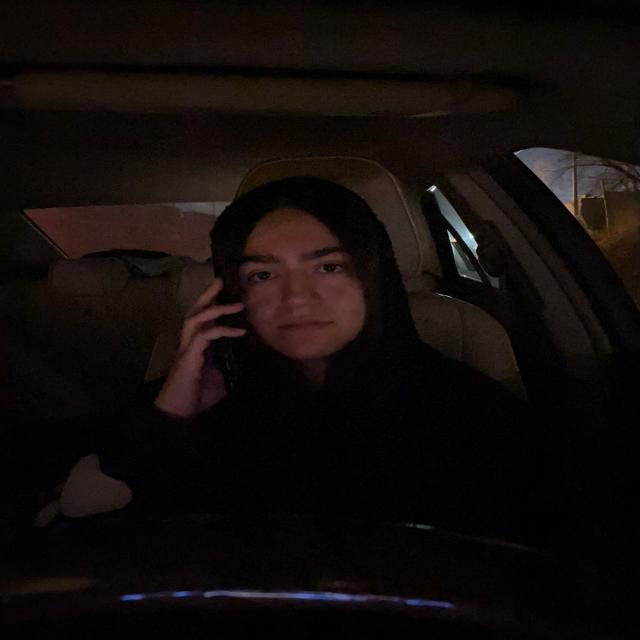mobile: (212, 324, 250, 399)
person: (206, 174, 414, 358)
